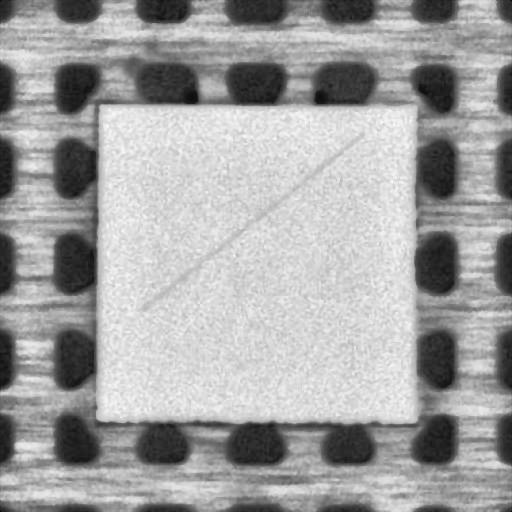DIE_CRACK: (139, 133, 362, 310)
